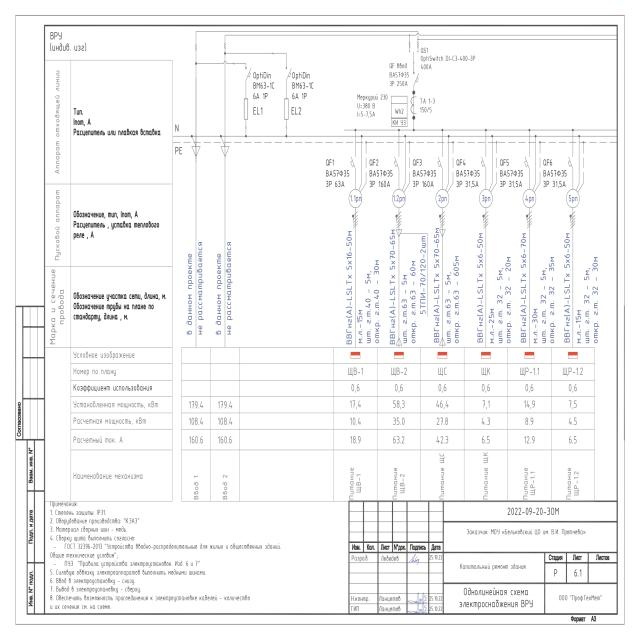-: (420, 55, 476, 71), (356, 92, 388, 120), (252, 72, 276, 100), (290, 71, 313, 100), (389, 71, 412, 87), (419, 105, 434, 115)
HL: (284, 98, 289, 120), (244, 98, 248, 120)
QF: (282, 64, 293, 83), (242, 64, 252, 83), (412, 70, 420, 89)
TT: (410, 95, 418, 115)
WH: (390, 95, 408, 119)
switch: (408, 46, 419, 61)
